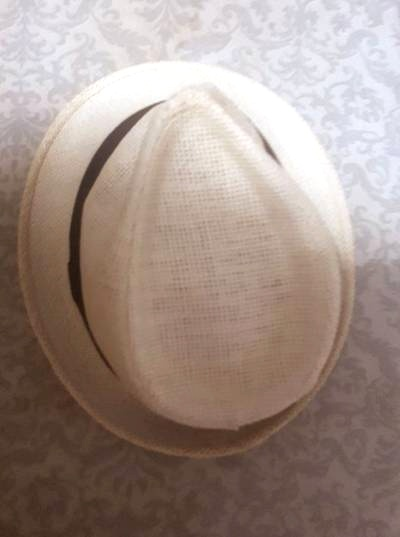Hat: (13, 29, 375, 484)
